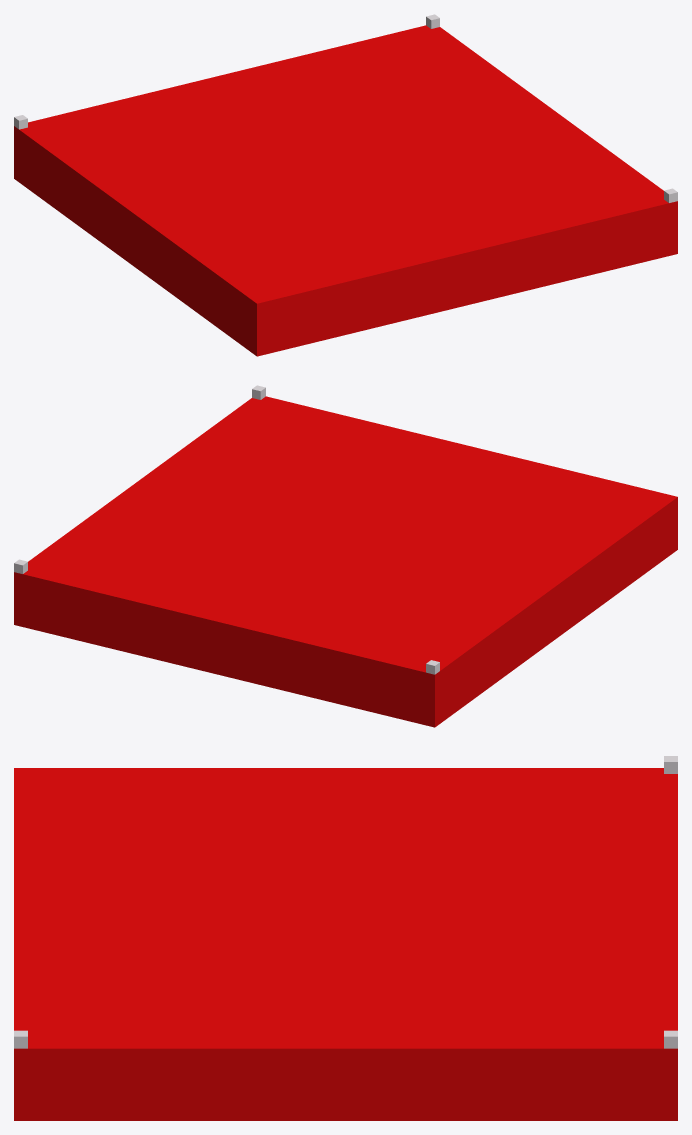
Rendered from 3corner.glb.
The picture shows the model from 3 angles, top to bottom: view 1: azimuth 30°, elevation 25°; view 2: azimuth 150°, elevation 25°; view 3: azimuth 270°, elevation 25°; orthographic projection. The views are drawn at different scales.
Visible parts, largest first — view 1: 3corner; view 2: 3corner; view 3: 3corner.
Boxes of the visible parts, x1=… form: 3corner: x1=14, y1=25, x2=677, y2=356; 3corner: x1=14, y1=396, x2=677, y2=727; 3corner: x1=14, y1=768, x2=677, y2=1120.
Size of the model in its own units: 1 by 0.14 by 1.
